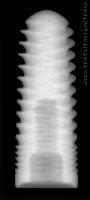Implant Direct: (15, 9, 81, 188)
